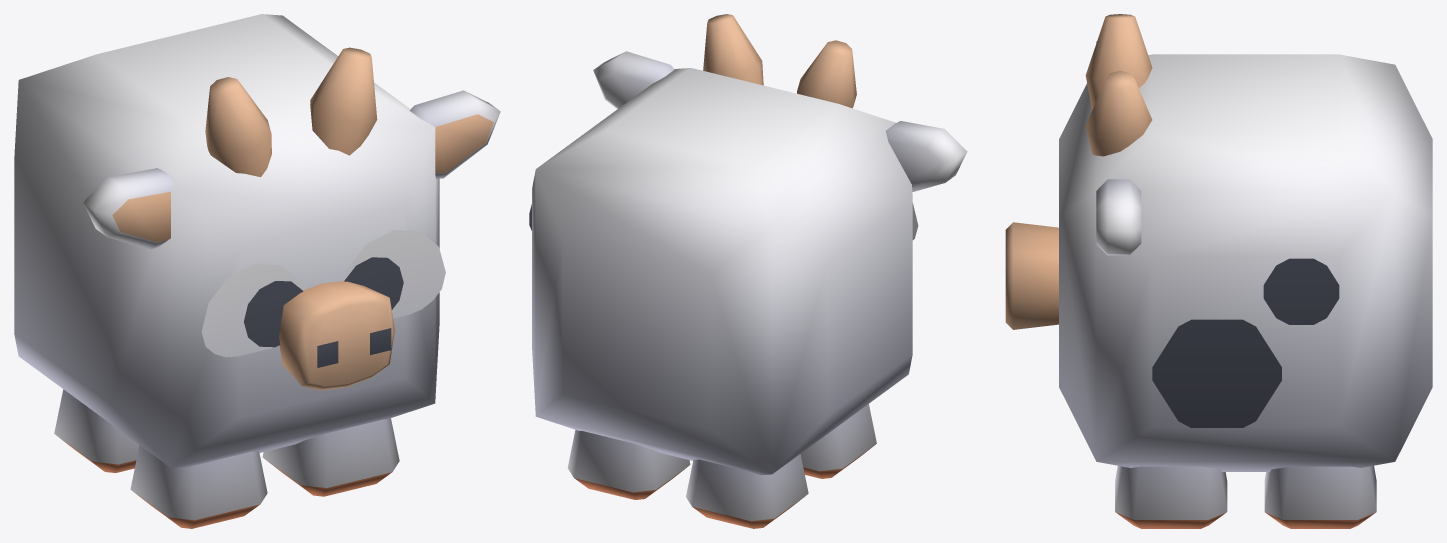
File: cow.glb
3 renders of one model, left to right at view 1: azimuth 30°, elevation 25°; view 2: azimuth 150°, elevation 25°; view 3: azimuth 270°, elevation 25°, orthographic. The views are drawn at different scales.
Parts seen in each view (by area): view 1: body, Group, leg-front-right, leg-front-left, leg-back-right; view 2: body, leg-back-right, leg-back-left, leg-front-right; view 3: body, leg-back-left, leg-front-left, Group.
Boxes of the visible parts, x1,y1,x2,y2 form: body: (14, 14, 500, 468); Group: (279, 281, 394, 390); leg-front-right: (130, 445, 267, 528); leg-front-left: (262, 418, 399, 496); leg-back-right: (54, 389, 139, 472); body: (529, 14, 967, 475); leg-back-right: (686, 454, 808, 528); leg-back-left: (567, 430, 690, 499); leg-front-right: (800, 404, 876, 478); body: (1059, 14, 1432, 471); leg-back-left: (1264, 465, 1376, 528); leg-front-left: (1115, 466, 1227, 528); Group: (1005, 222, 1058, 329).
Bounding box in the file's own units: 1.54 × 1.61 × 1.46.
Materials: 1 (1 with a texture image).
